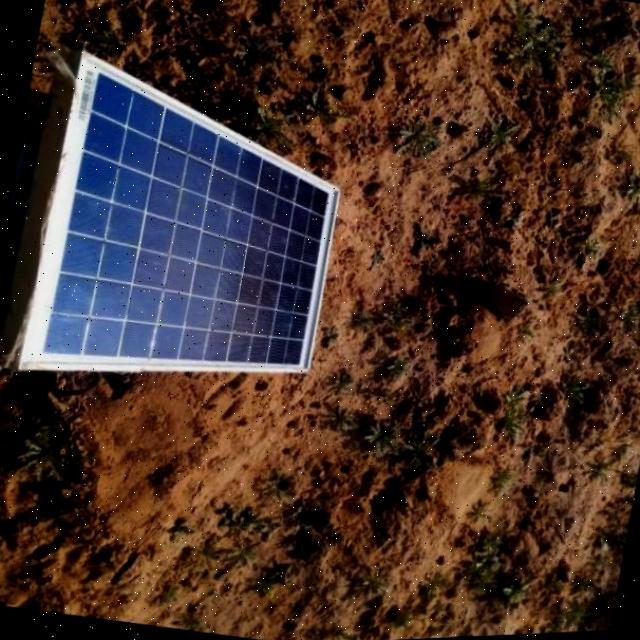Normal Solar Panel: (18, 41, 359, 418)
